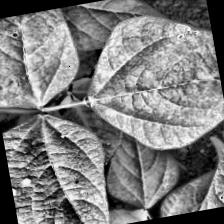Bean Rust: (75, 5, 224, 162), (0, 105, 116, 224), (0, 5, 86, 114)
